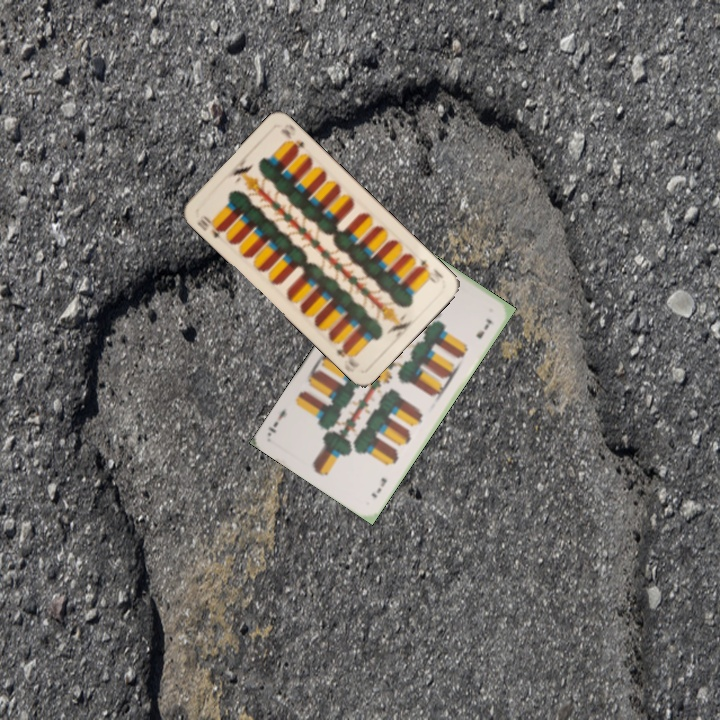E10: (412, 255, 446, 286), (193, 212, 227, 242)
E7: (367, 473, 390, 501)
